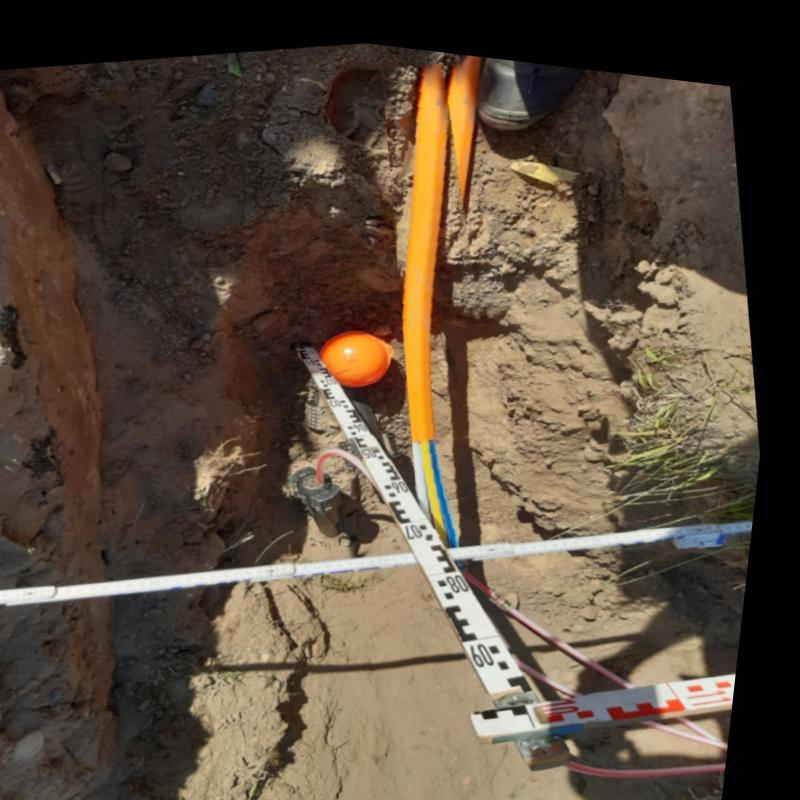Kugelmarker: (325, 322, 390, 379)
Orang-Speednetrohrchen: (408, 54, 463, 523)
